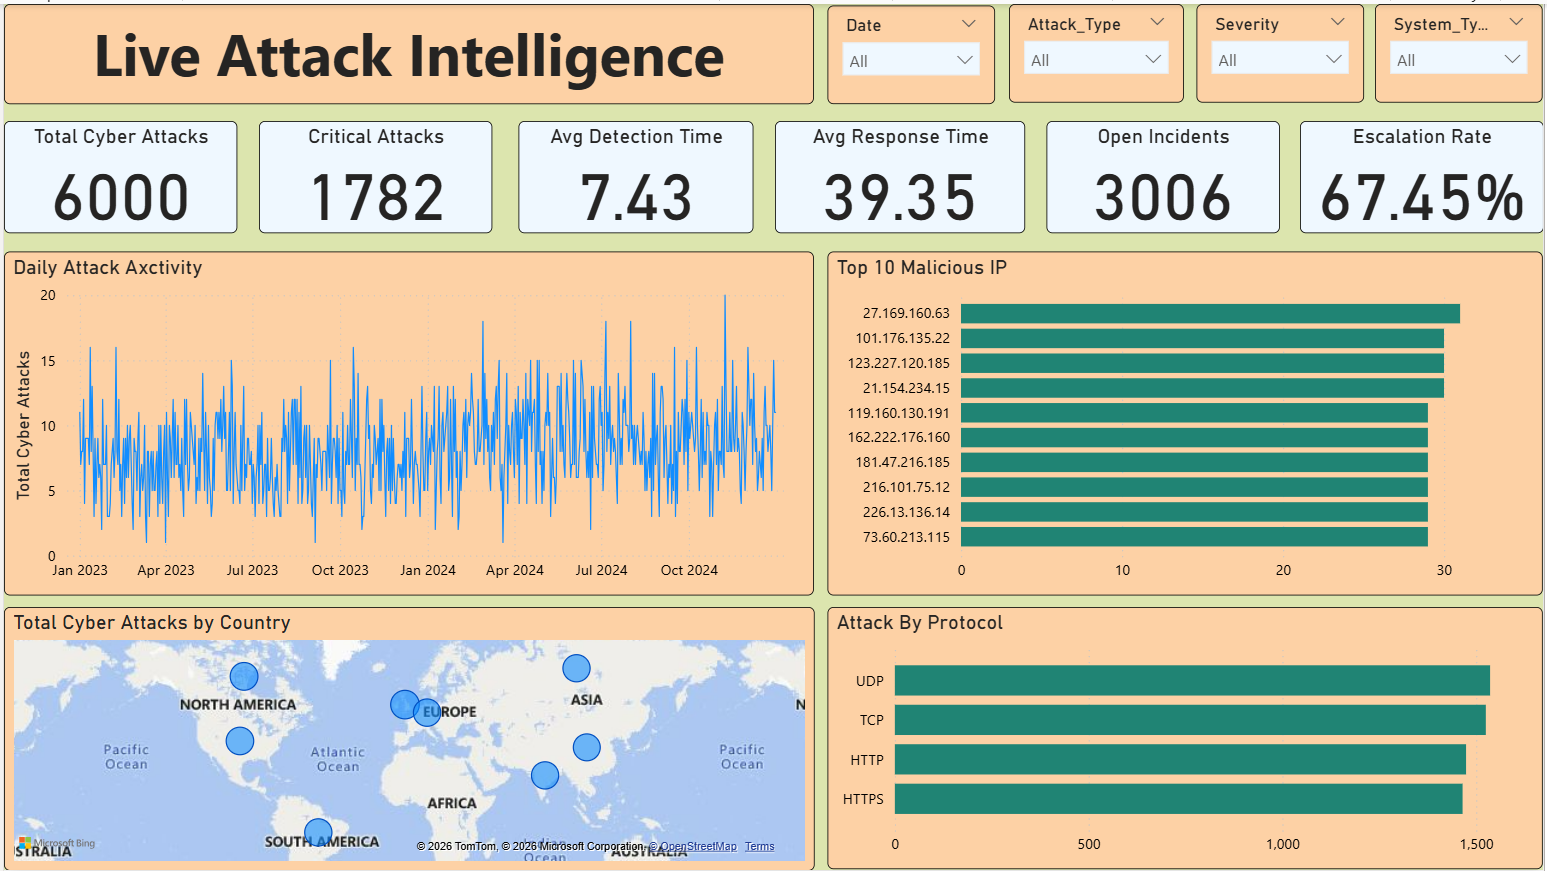

The page's visual inventory and layout, read from the dashboard file:
{"tool":"powerbi","page":{"name":"Live Attack Intelligence","canvas":[1280,720],"ordinal":1},"visuals":[{"type":"textbox","box":[0,0,673.5,83.3],"z":0},{"type":"slicer","fields":{"Values":["Date_Table.Date"]},"box":[685,1.4,139.3,81.9],"z":1000},{"type":"slicer","fields":{"Values":["Attack_Type.Attack_Type"]},"box":[835.8,0,145,81.9],"z":2000},{"type":"slicer","fields":{"Values":["Severity.Severity_Level"]},"box":[990.9,0,139.3,81.9],"z":3000},{"type":"slicer","fields":{"Values":["Affected_System.System_Type"]},"box":[1140.2,0,139.3,81.9],"z":4000},{"type":"card","title":"Total Cyber Attacks","fields":{"Values":["Security_Events.Total Cyber Attacks"]},"box":[0,97.7,193.9,93.3],"z":5000},{"type":"card","title":"Critical Attacks","fields":{"Values":["Security_Events.Critical Attacks"]},"box":[212.5,97.7,193.9,93.3],"z":6000},{"type":"card","title":"Avg Detection Time","fields":{"Values":["Security_Events.Avg Detection Time"]},"box":[427.9,97.7,195.3,93.3],"z":7000},{"type":"card","title":"Avg Response Time","fields":{"Values":["Security_Events.Avg Response Time"]},"box":[640.5,97.7,208.2,93.3],"z":8000},{"type":"card","title":"Open Incidents","fields":{"Values":["Security_Events.Open Incidents"]},"box":[867.4,97.7,193.9,93.3],"z":9000},{"type":"card","title":"Escalation Rate","fields":{"Values":["Security_Events.Escalation Rate %"]},"box":[1077,97.7,202.5,93.3],"z":10000},{"type":"lineChart","title":"Daily Attack Axctivity","fields":{"Y":["Security_Events.Total Cyber Attacks"],"Category":["Date_Table.Date.Variation.Date Hierarchy.Year","Date_Table.Date.Variation.Date Hierarchy.Quarter","Date_Table.Date.Variation.Date Hierarchy.Month","Date_Table.Date.Variation.Date Hierarchy.Day"]},"box":[0,205.4,673.5,285.8],"z":11000},{"type":"clusteredBarChart","title":"Attack By Protocol","fields":{"Category":["Network_Traffic.Protocol"],"Y":["CountNonNull(Security_Events.Event_ID)"]},"box":[685,501.2,594.5,218.3],"z":12000},{"type":"map","fields":{"Category":["Country.Country"],"Size":["Security_Events.Total Cyber Attacks"]},"box":[0,501,674,219],"z":13000},{"type":"clusteredBarChart","title":"Top 10 Malicious IP","fields":{"Y":["Security_Events.Total Cyber Attacks"],"Category":["IP_Address.IP_Address"]},"box":[685,205.4,594.5,285.8],"z":14000}]}

Visuals, with their boxes in screenshot pixels (x1, y1, x2, y2), scaled from the page's 1280x720 canvas onto the 1547x871 screenshot:
textbox: crop(0, 0, 814, 101)
slicer - Date_Table.Date: crop(828, 2, 996, 101)
slicer - Attack_Type.Attack_Type: crop(1010, 0, 1185, 99)
slicer - Severity.Severity_Level: crop(1198, 0, 1366, 99)
slicer - Affected_System.System_Type: crop(1378, 0, 1546, 99)
"Total Cyber Attacks" card: crop(0, 118, 234, 231)
"Critical Attacks" card: crop(257, 118, 491, 231)
"Avg Detection Time" card: crop(517, 118, 753, 231)
"Avg Response Time" card: crop(774, 118, 1026, 231)
"Open Incidents" card: crop(1048, 118, 1283, 231)
"Escalation Rate" card: crop(1302, 118, 1546, 231)
"Daily Attack Axctivity" lineChart: crop(0, 248, 814, 594)
"Attack By Protocol" clusteredBarChart: crop(828, 606, 1546, 870)
map - Country.Country x Security_Events.Total Cyber Attacks: crop(0, 606, 815, 870)
"Top 10 Malicious IP" clusteredBarChart: crop(828, 248, 1546, 594)
